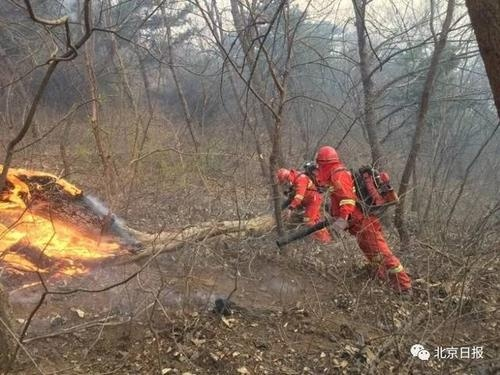fire: (0, 145, 128, 283)
